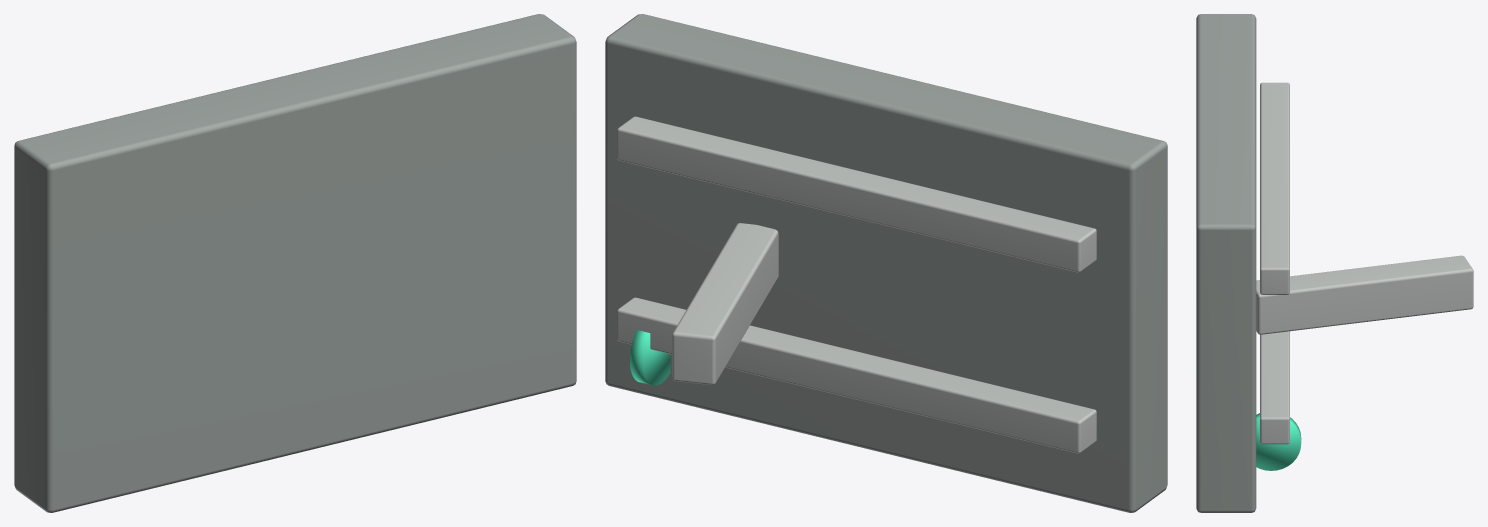
The model's file is launch_stand.glb.
The picture shows the model from 3 angles, left to right: view 1: azimuth 30°, elevation 25°; view 2: azimuth 150°, elevation 25°; view 3: azimuth 270°, elevation 25°; orthographic projection. The views are drawn at different scales.
Visible parts, largest first — view 1: RW3_Launch_Stand_Base; view 2: RW3_Launch_Stand_Base, RW3_Launch_Rail_Left, RW3_Launch_Rail_Right, RW3_Launch_Lever, RW3_Launch_Indicator; view 3: RW3_Launch_Stand_Base, RW3_Launch_Lever, RW3_Launch_Rail_Left, RW3_Launch_Rail_Right, RW3_Launch_Indicator.
Boxes of the visible parts, x1,y1,x2,y2 form: RW3_Launch_Stand_Base: [14, 14, 576, 512]; RW3_Launch_Stand_Base: [605, 14, 1167, 512]; RW3_Launch_Rail_Left: [617, 116, 1096, 272]; RW3_Launch_Rail_Right: [617, 297, 1096, 453]; RW3_Launch_Lever: [672, 223, 778, 384]; RW3_Launch_Indicator: [630, 330, 670, 385]; RW3_Launch_Stand_Base: [1196, 14, 1256, 512]; RW3_Launch_Lever: [1256, 255, 1473, 334]; RW3_Launch_Rail_Left: [1260, 82, 1289, 294]; RW3_Launch_Rail_Right: [1260, 331, 1289, 444]; RW3_Launch_Indicator: [1256, 413, 1301, 470].
Bounding box in the file's own units: 1.35 × 0.85 × 0.74.
